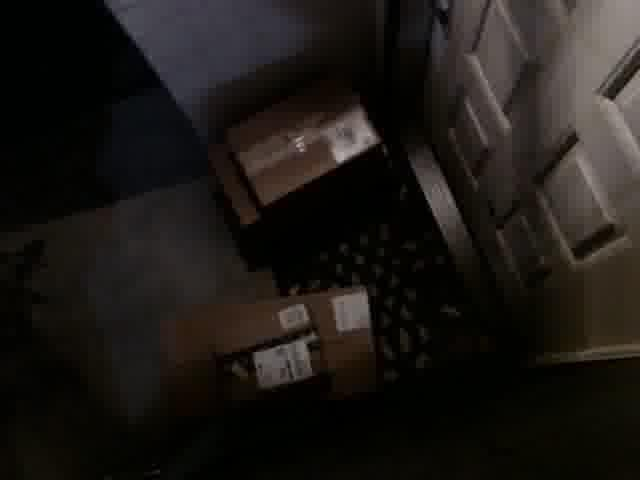box: (152, 279, 378, 473), (204, 64, 386, 270), (224, 73, 382, 207), (178, 300, 329, 410)
